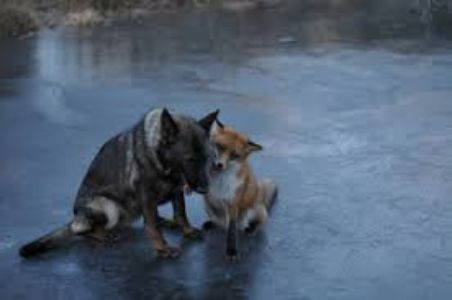fox: (209, 119, 287, 265)
wolf: (57, 104, 208, 274)
